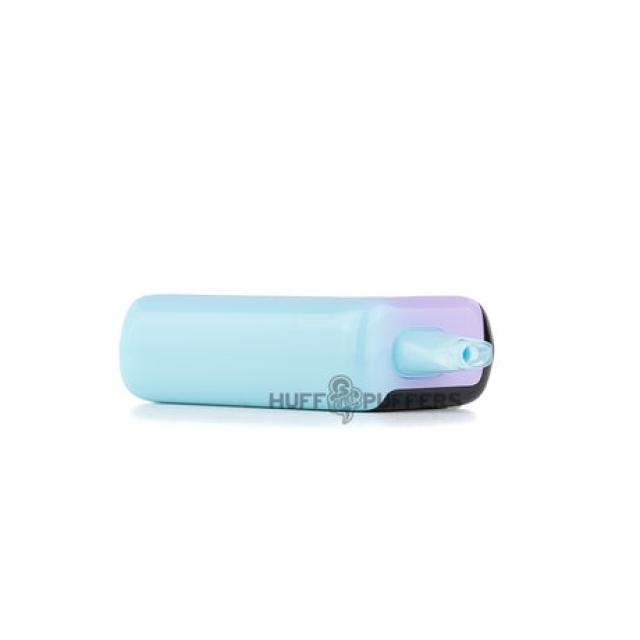Vape-images: (117, 291, 494, 417)
